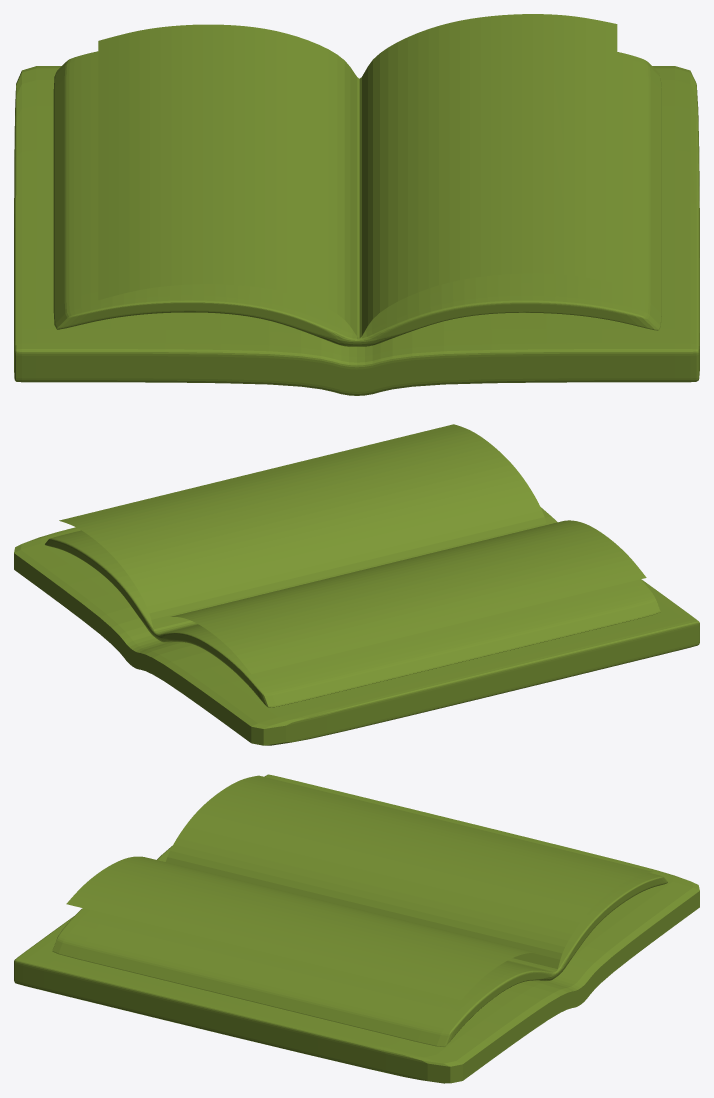
File: Book1.glb
3 views of the same model, one above another, from view 1: azimuth 30°, elevation 25°; view 2: azimuth 150°, elevation 25°; view 3: azimuth 270°, elevation 25° (orthographic). The views are drawn at different scales.
Visible parts, largest first — view 1: polySurface5, polySurface1, polySurface4; view 2: polySurface5, polySurface1, polySurface4; view 3: polySurface5, polySurface1, polySurface4.
Boxes of the visible parts, bbox=[...] form: polySurface5: bbox=[98, 14, 617, 338]; polySurface1: bbox=[14, 66, 699, 395]; polySurface4: bbox=[53, 51, 661, 346]; polySurface5: bbox=[59, 424, 646, 674]; polySurface1: bbox=[14, 507, 699, 745]; polySurface4: bbox=[45, 530, 660, 707]; polySurface5: bbox=[66, 775, 653, 1000]; polySurface1: bbox=[14, 774, 699, 1083]; polySurface4: bbox=[52, 873, 667, 1046].
Size of the model in its own units: 90.32 by 11.79 by 90.5.
